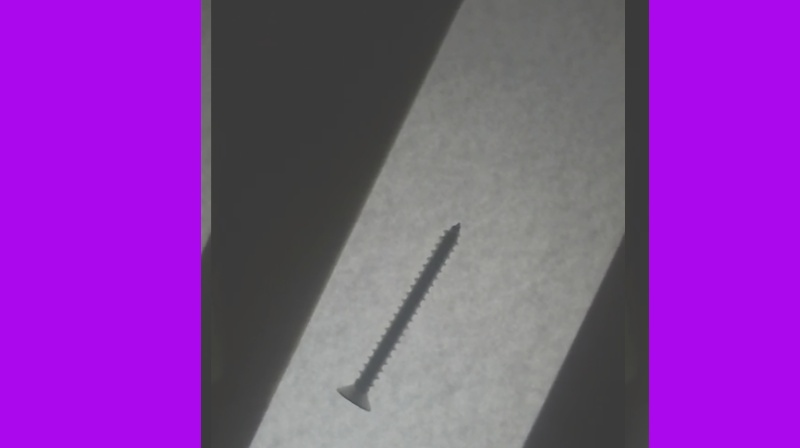S002: (333, 219, 462, 415)
